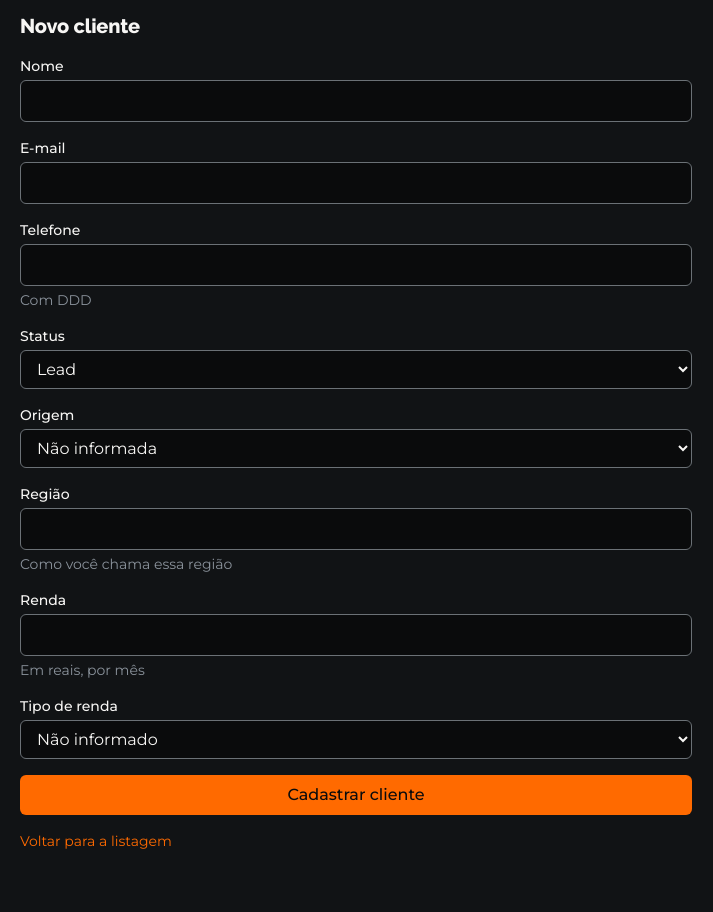
Test case: NovoCliente › mantém a tela e os dados digitados quando o serviço recusa
The image size is (713, 912).
Step 1. Type "Ana Prado" into the field labelled "Nome" → (356, 101), box [20,80,692,122]
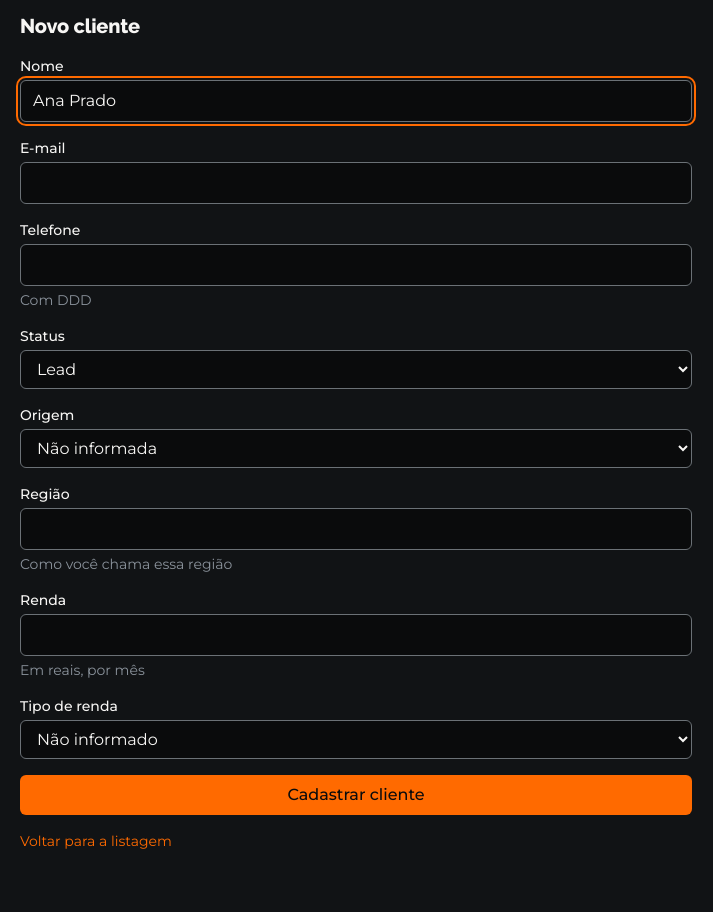
Step 2. Type "11987654321" into the field labelled "Telefone" → (356, 265), box [20,244,692,286]
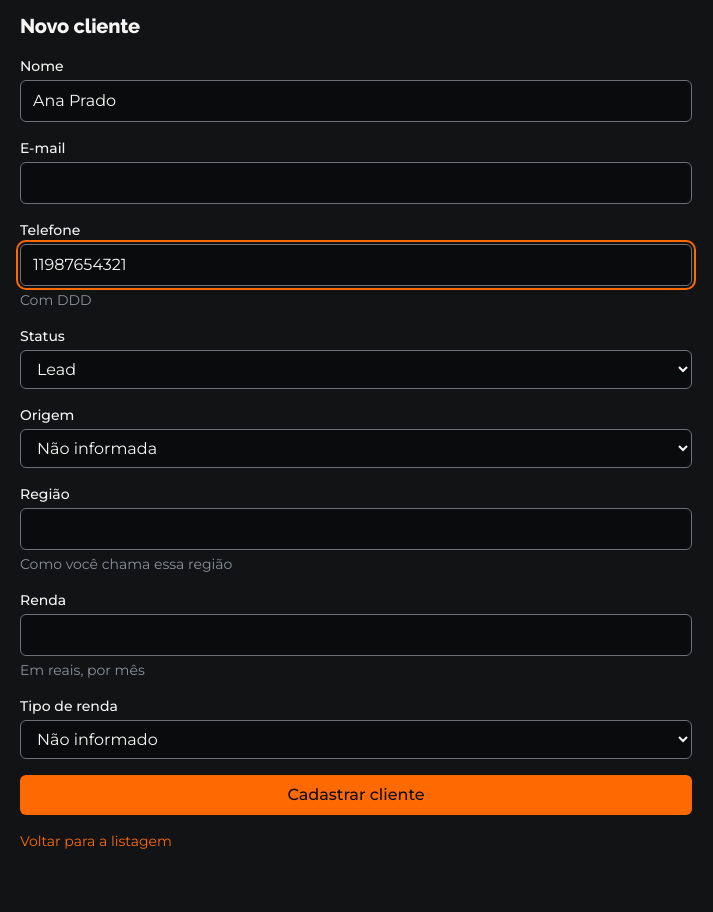
Step 3. Click the button "Cadastrar cliente" → (356, 795), box [20,775,692,815]
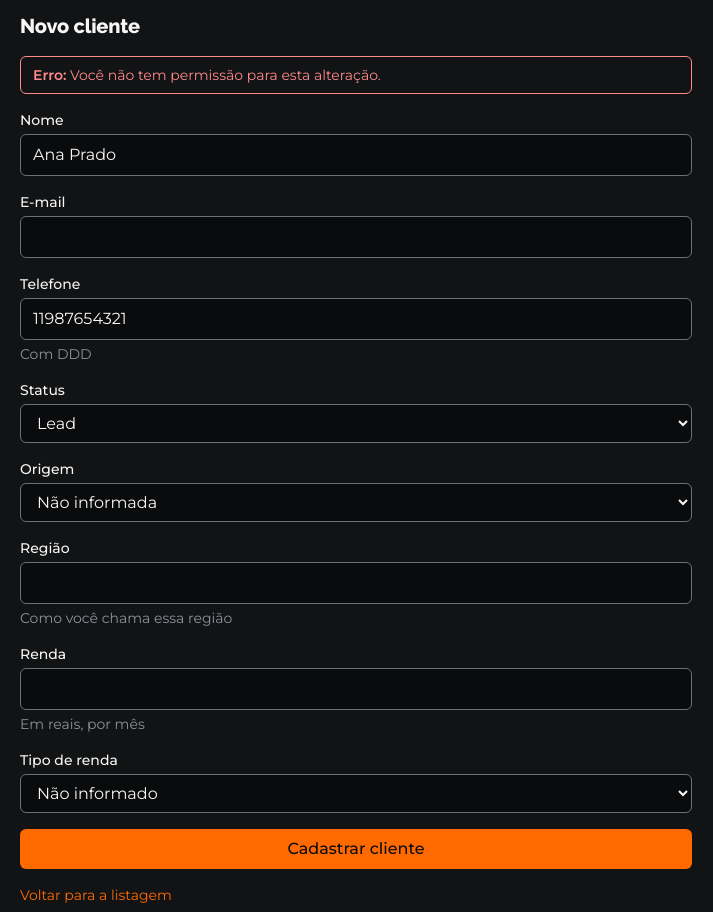
Result: the message shows "Você não tem permissão para esta alteração." at [70,66,381,84]
